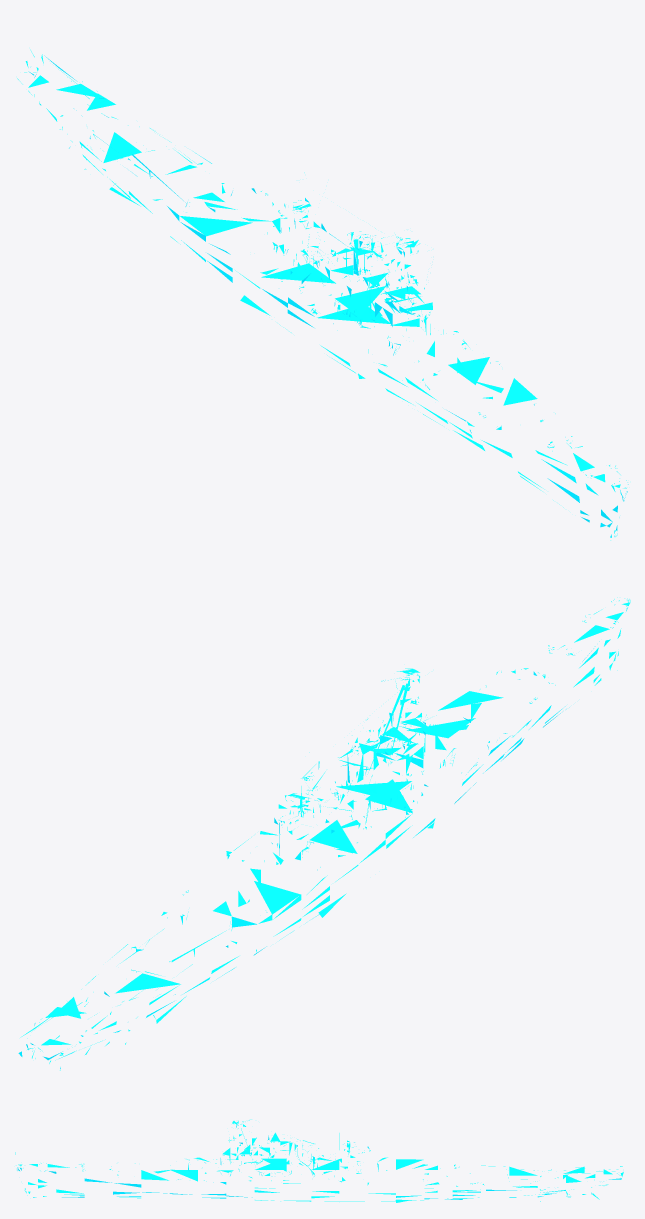
The model's file is Komissar.glb.
The picture shows the model from 3 angles, top to bottom: view 1: azimuth 30°, elevation 25°; view 2: azimuth 150°, elevation 25°; view 3: azimuth 270°, elevation 25°; orthographic projection. The views are drawn at different scales.
Size of the model in its own units: 1.51 by 2.35 by 16.16.
